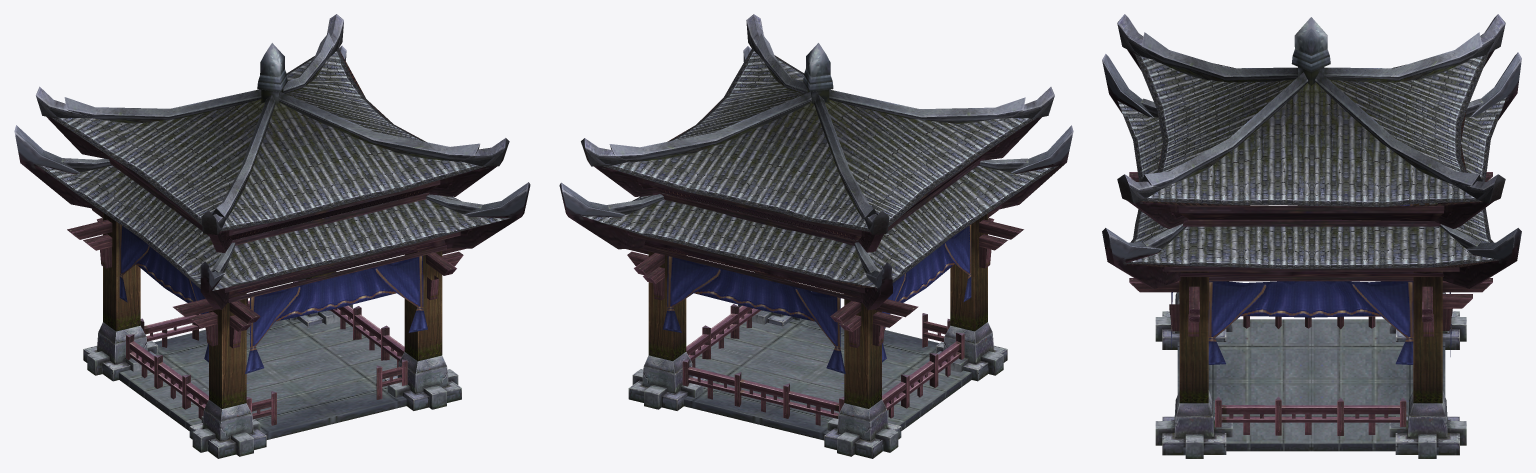
Rendered from xcz_jz_09_LOD1.FBX.
The picture shows the model from 3 angles, left to right: view 1: azimuth 30°, elevation 25°; view 2: azimuth 150°, elevation 25°; view 3: azimuth 270°, elevation 25°; orthographic projection. The views are drawn at different scales.
Parts seen in each view (by area): view 1: xcz_jz_09_LOD1; view 2: xcz_jz_09_LOD1; view 3: xcz_jz_09_LOD1.
Boxes of the visible parts, x1,y1,x2,y2 form: xcz_jz_09_LOD1: [14, 14, 530, 458]; xcz_jz_09_LOD1: [559, 14, 1073, 458]; xcz_jz_09_LOD1: [1102, 14, 1521, 458].
Size of the model in its own units: 1685 by 1635 by 1670.
